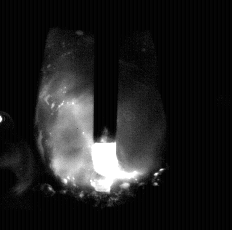arame: (94, 0, 119, 143)
poca: (36, 0, 163, 230)
